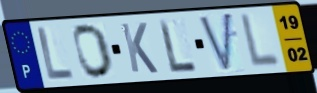K: (119, 21, 161, 75)
L: (239, 11, 283, 70), (156, 18, 199, 76), (36, 25, 76, 82)
O: (72, 22, 115, 81)
V: (196, 10, 234, 75)
